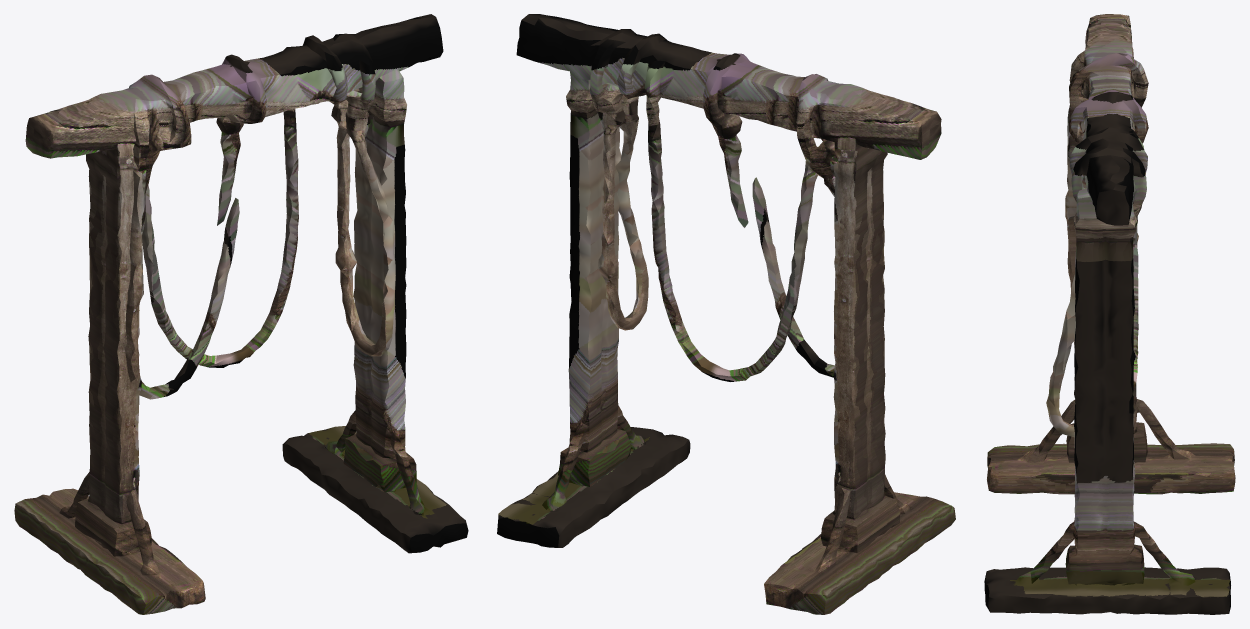
The model's file is gallows.glb.
3 views of the same model, side by side, from view 1: azimuth 30°, elevation 25°; view 2: azimuth 150°, elevation 25°; view 3: azimuth 270°, elevation 25° (orthographic). The views are drawn at different scales.
Visible parts, largest first — view 1: geometry_0; view 2: geometry_0; view 3: geometry_0.
Boxes of the visible parts, left/top/right/bottom form: geometry_0: left=14, top=14, right=468, bottom=614; geometry_0: left=497, top=14, right=955, bottom=614; geometry_0: left=984, top=14, right=1235, bottom=614.
Size of the model in its own units: 3.76 by 4.2 by 2.13.
Materials: 1 (1 with a texture image).
